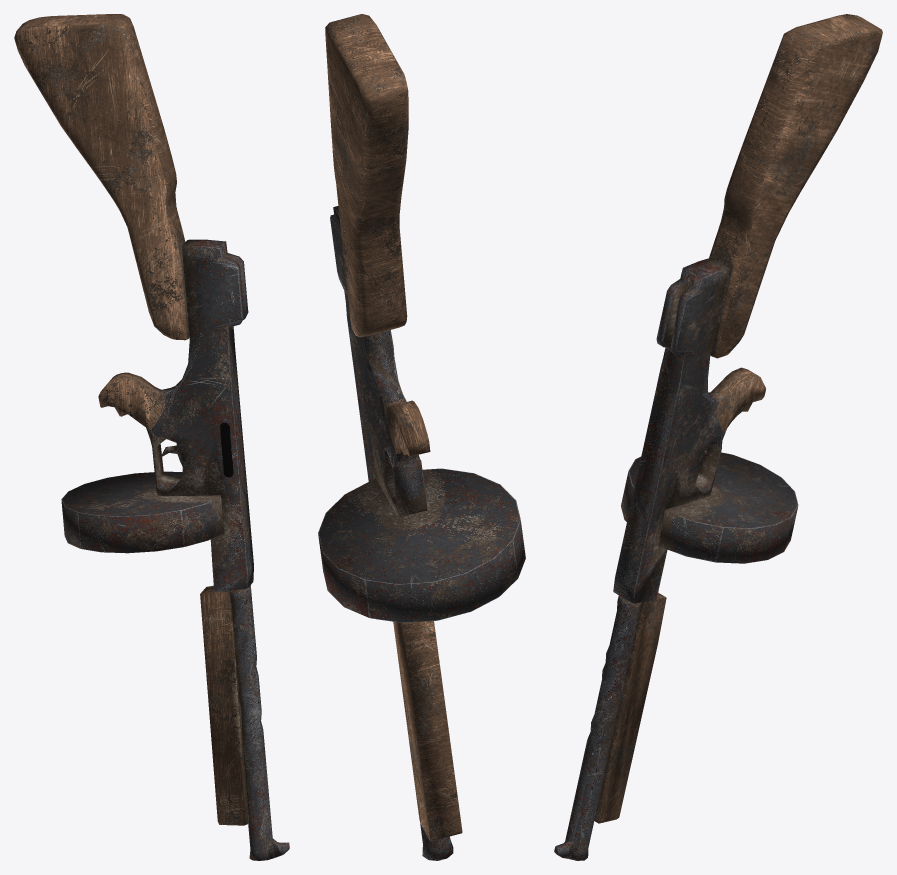
Rendered from Anim_idle_ametralladora_objetos.0035.obj.
3 renders of one model, left to right at view 1: azimuth 30°, elevation 25°; view 2: azimuth 150°, elevation 25°; view 3: azimuth 270°, elevation 25°, orthographic. The views are drawn at different scales.
Parts seen in each view (by area): view 1: Ametralladora1; view 2: Ametralladora1; view 3: Ametralladora1.
Part boxes in pixels (left/top/right/bottom): Ametralladora1: left=14, top=14, right=289, bottom=860; Ametralladora1: left=318, top=14, right=525, bottom=860; Ametralladora1: left=554, top=14, right=882, bottom=860.
Bounding box in the file's own units: 1.26 × 5.86 × 2.17.
